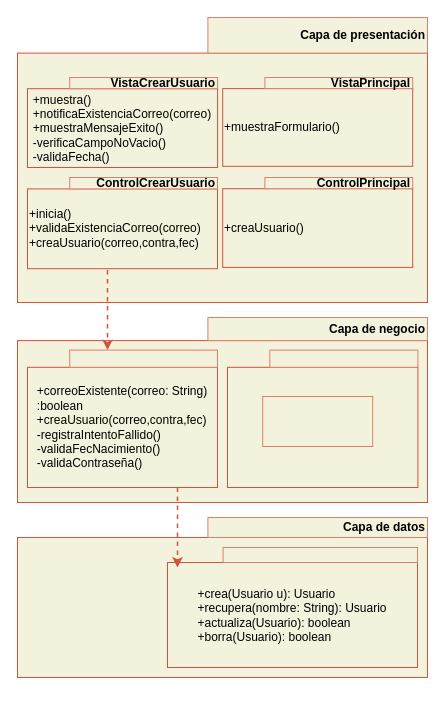
The diagram is 445 pixels wide and 702 high, and some of its shapes have lost their labels. Each missing label, with the box of its shape:
EntidadesNegocio: (269, 349, 418, 367)
ServicioUsuario: (69, 349, 218, 367)
Usuario: (262, 396, 373, 446)
UsuarioRepository: (222, 546, 418, 562)
